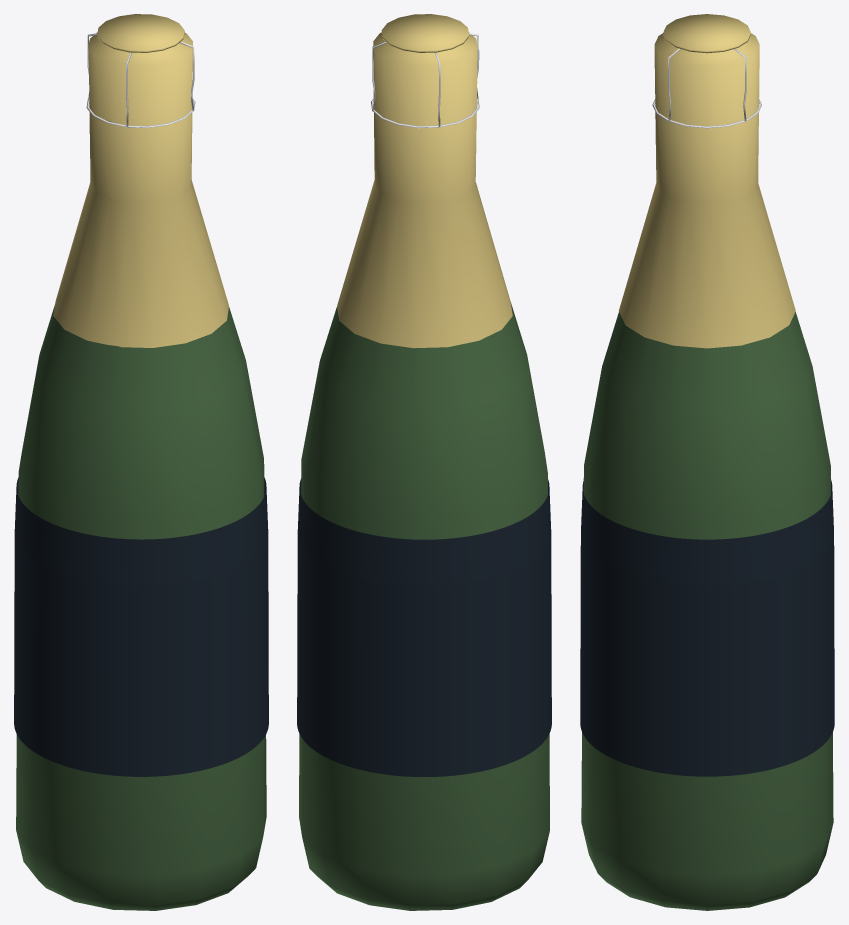
The model's file is v2_champagne_brut_minimal.glb.
3 views of the same model, side by side, from view 1: azimuth 30°, elevation 25°; view 2: azimuth 150°, elevation 25°; view 3: azimuth 270°, elevation 25° (orthographic).
Parts seen in each view (by area): view 1: Glass, Label_band, Cap; view 2: Glass, Label_band, Cap; view 3: Glass, Label_band, Cap.
Boxes of the visible parts, x1,y1,x2,y2 form: Glass: (16,120,266,910); Label_band: (14,477,268,776); Cap: (53,14,228,347); Glass: (299,107,549,910); Label_band: (297,478,551,776); Cap: (337,14,512,348); Glass: (581,312,833,910); Label_band: (580,480,834,776); Cap: (619,14,795,348).
Bounding box in the file's own units: 0.0879 × 0.318 × 0.0879.
